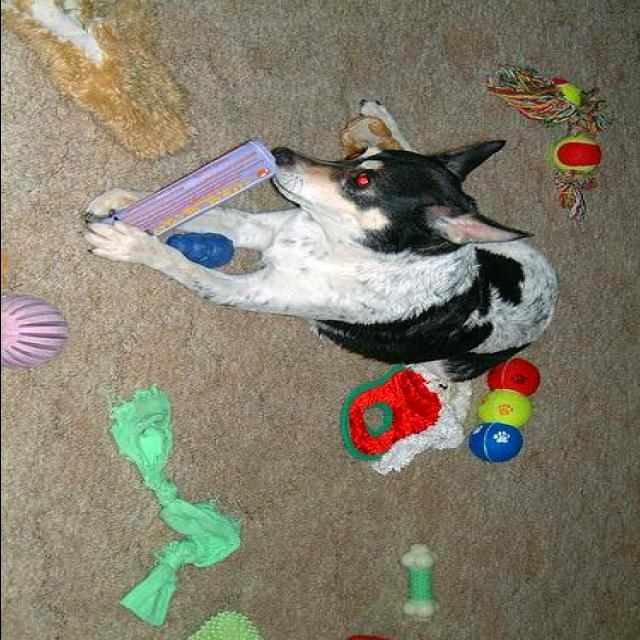toy_terrier: (82, 137, 558, 383)
